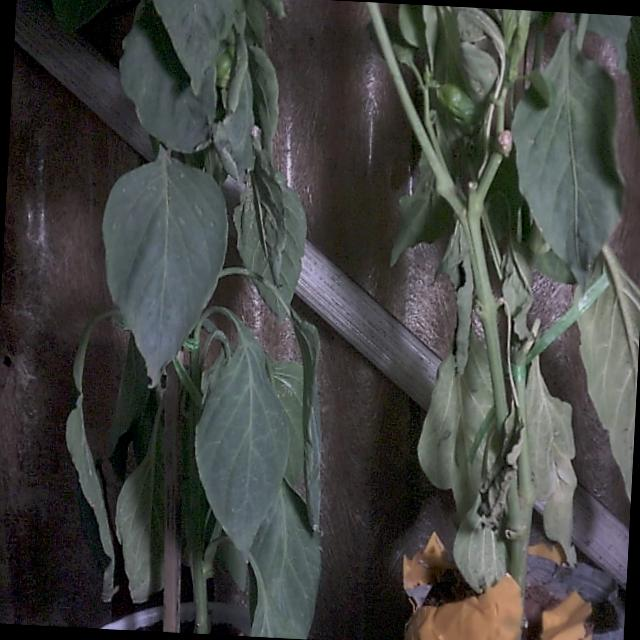Leaf: (103, 151, 227, 383), (512, 33, 622, 283), (195, 312, 289, 555), (578, 252, 639, 495), (120, 4, 216, 152), (251, 483, 320, 638), (153, 0, 236, 95)
